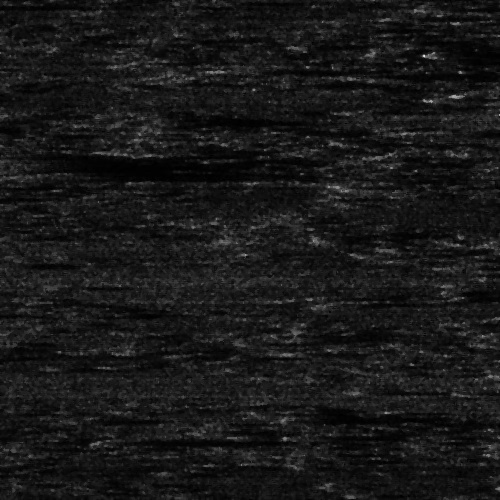object: (0, 150, 73, 175), (0, 169, 79, 180), (381, 129, 474, 136), (463, 263, 500, 280), (93, 435, 176, 442), (342, 72, 405, 79), (446, 238, 500, 245), (196, 67, 269, 72), (461, 337, 500, 344), (423, 52, 454, 59), (445, 388, 486, 393), (0, 261, 25, 266), (347, 108, 388, 111)
shadow: (26, 150, 259, 175), (27, 169, 235, 180), (135, 435, 283, 442), (374, 72, 500, 79), (232, 67, 340, 72), (0, 1, 76, 8), (428, 129, 500, 136), (438, 52, 500, 59), (368, 108, 457, 111), (0, 261, 38, 266), (465, 388, 500, 393)
